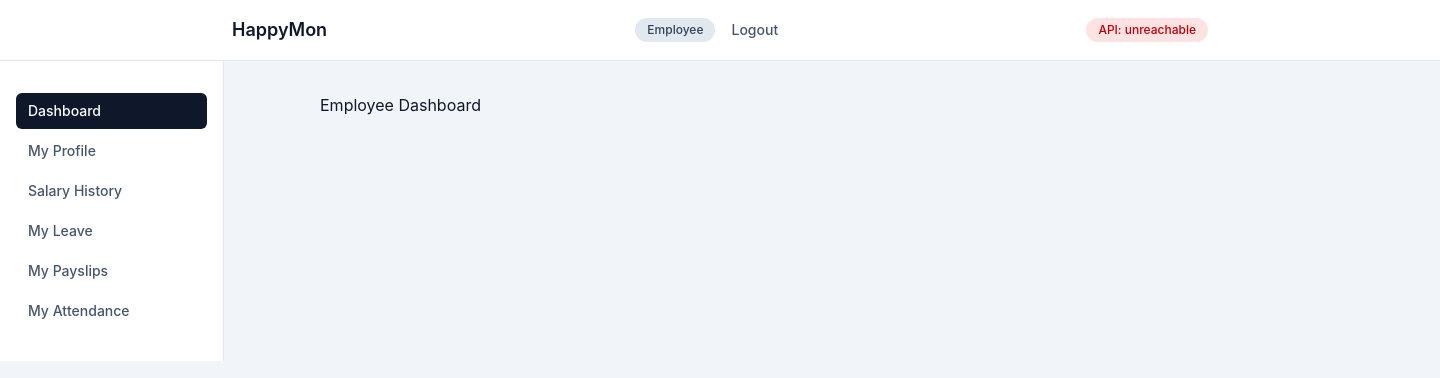
Scenario: AppLayout › EMPLOYEE › navigates to /employee/leave via the sidebar My Leave link
This screenshot has width=1440, height=378.
Click the link "My Leave".
click(60, 230)  # box [28,222,93,239]
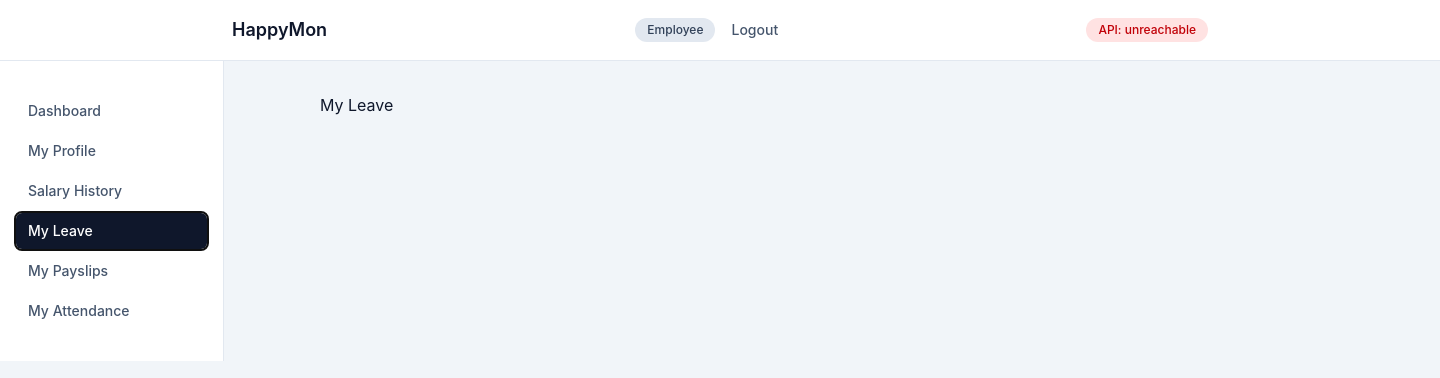
Expected: the heading "My Leave" is shown, [320,95,393,115]
